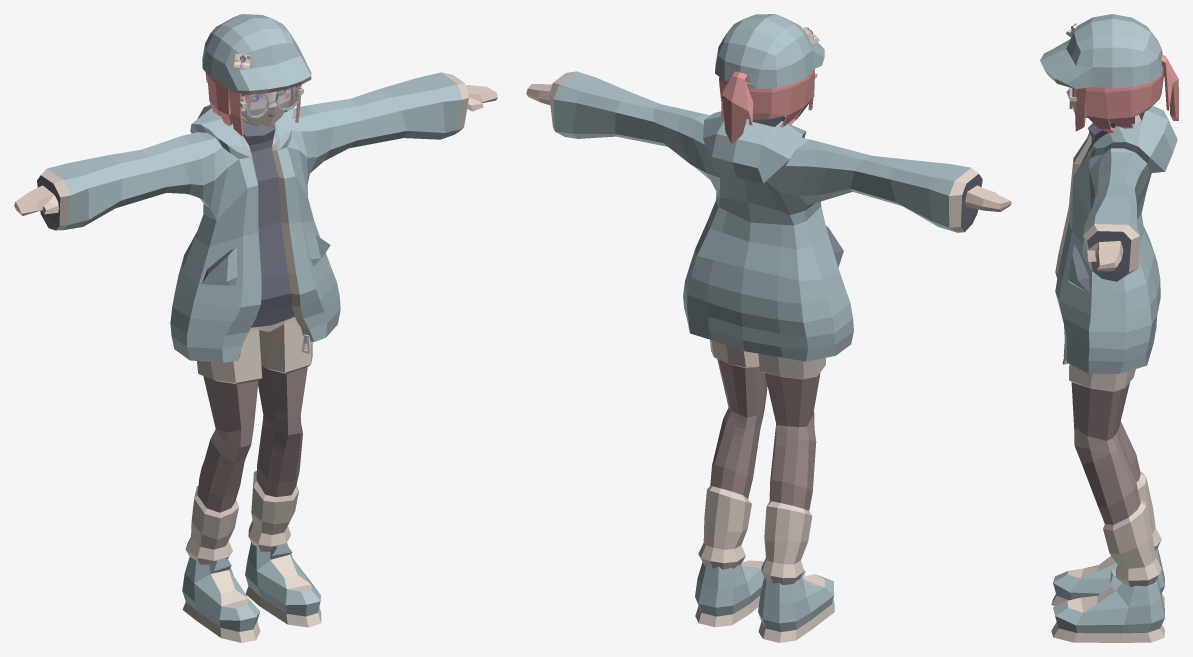
The model's file is CameraGirl.fbx.
3 views of the same model, side by side, from view 1: azimuth 30°, elevation 25°; view 2: azimuth 150°, elevation 25°; view 3: azimuth 270°, elevation 25° (orthographic).
Visible parts, largest first — view 1: Jacket.006; view 2: Jacket.006; view 3: Jacket.006.
Part boxes in pixels (x1,y1,x2,y2): Jacket.006: (14, 14, 497, 642); Jacket.006: (526, 14, 1011, 642); Jacket.006: (1040, 14, 1178, 642).
Size of the model in its own units: 256 by 304 by 63.96.
